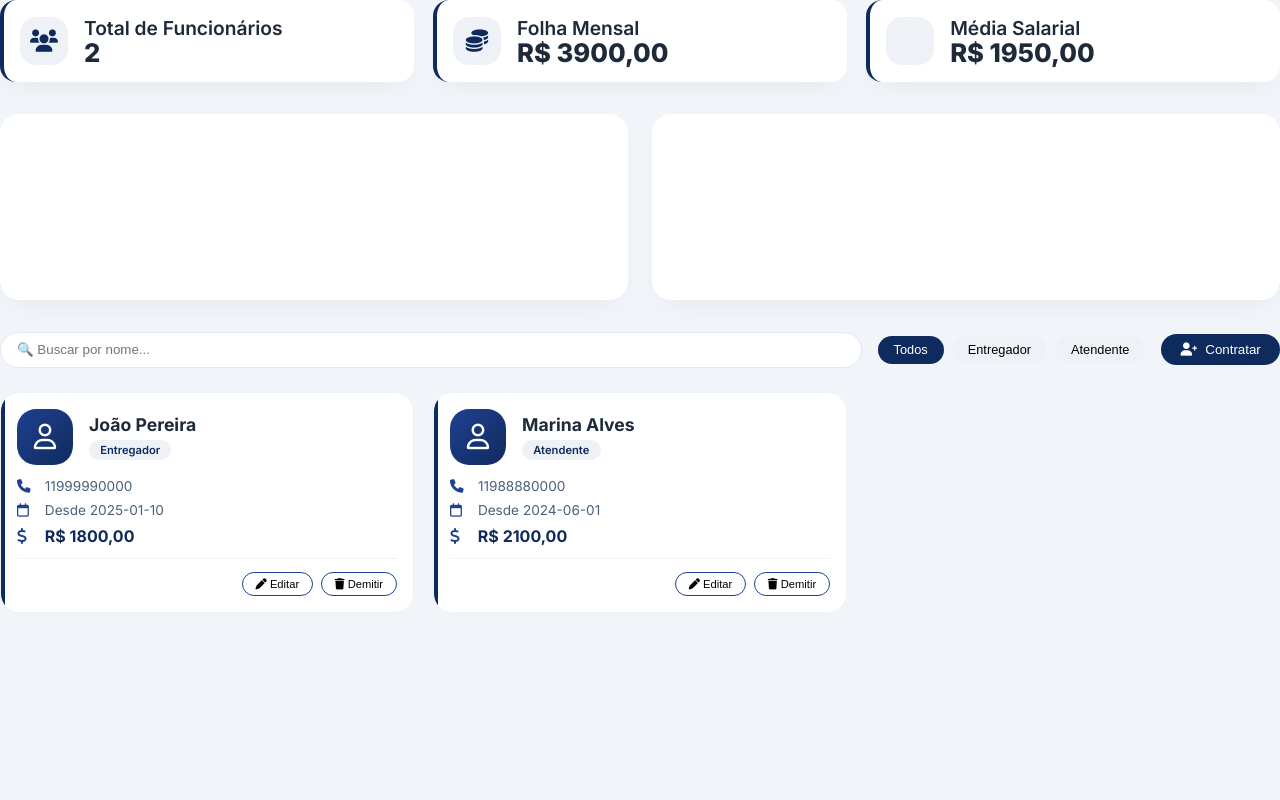
Test: EmployeesSection (painel admin — funcionários) › editar funcionário com falha do backend: mostra o erro, mantém o modal aberto e não altera a lista
Click the button "Editar" below "R$ 1800,00" at (277, 584), box [242,572,313,596]
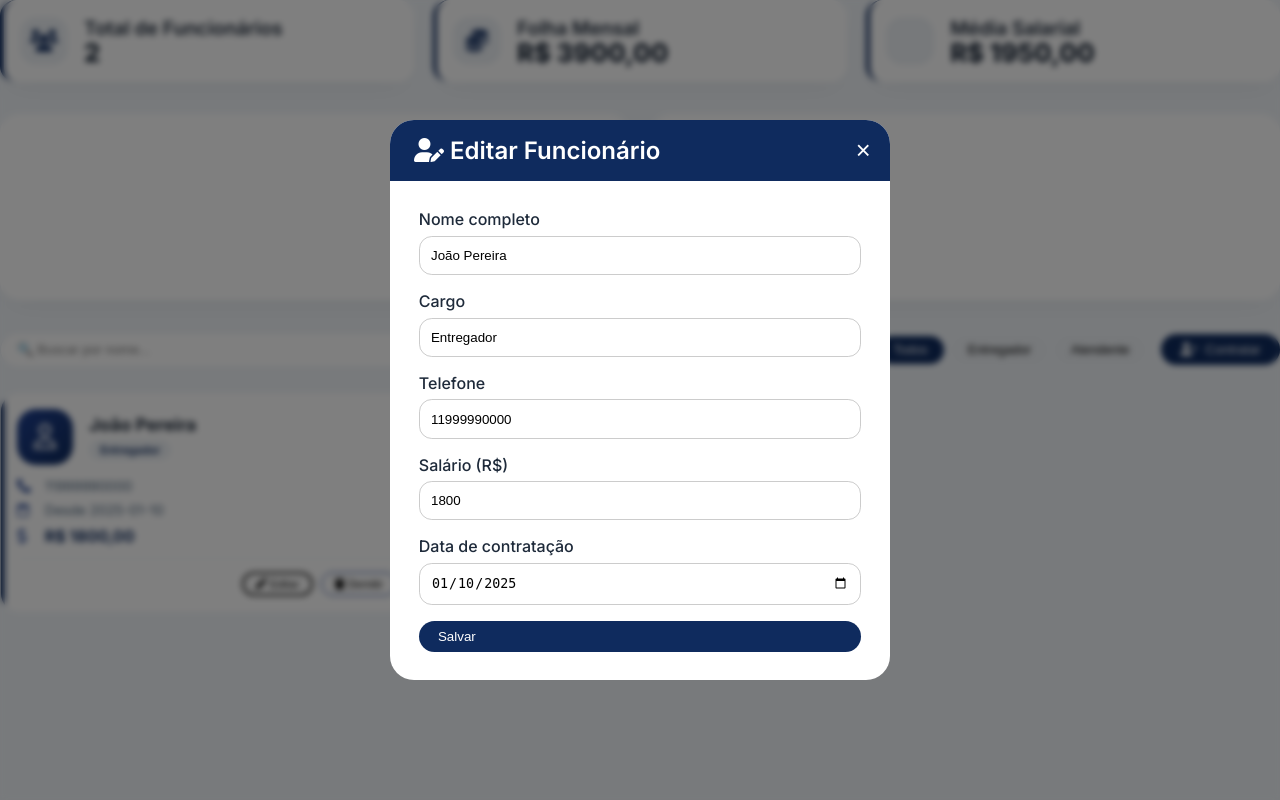
Replace the text in the field labelled "Nome completo" with "João P. Silva" at (640, 256), box [419,236,861,275]
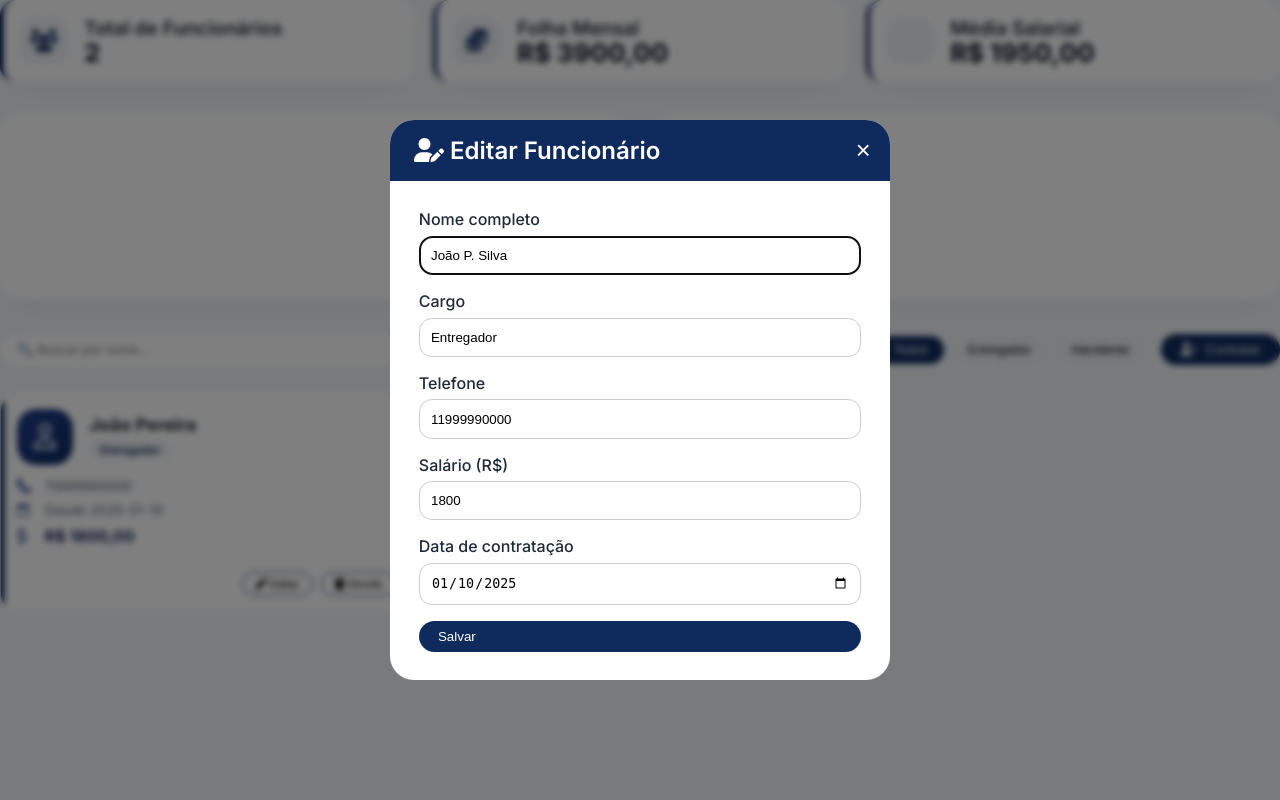
Click the button "Salvar" at (457, 636), box [419,621,861,652]
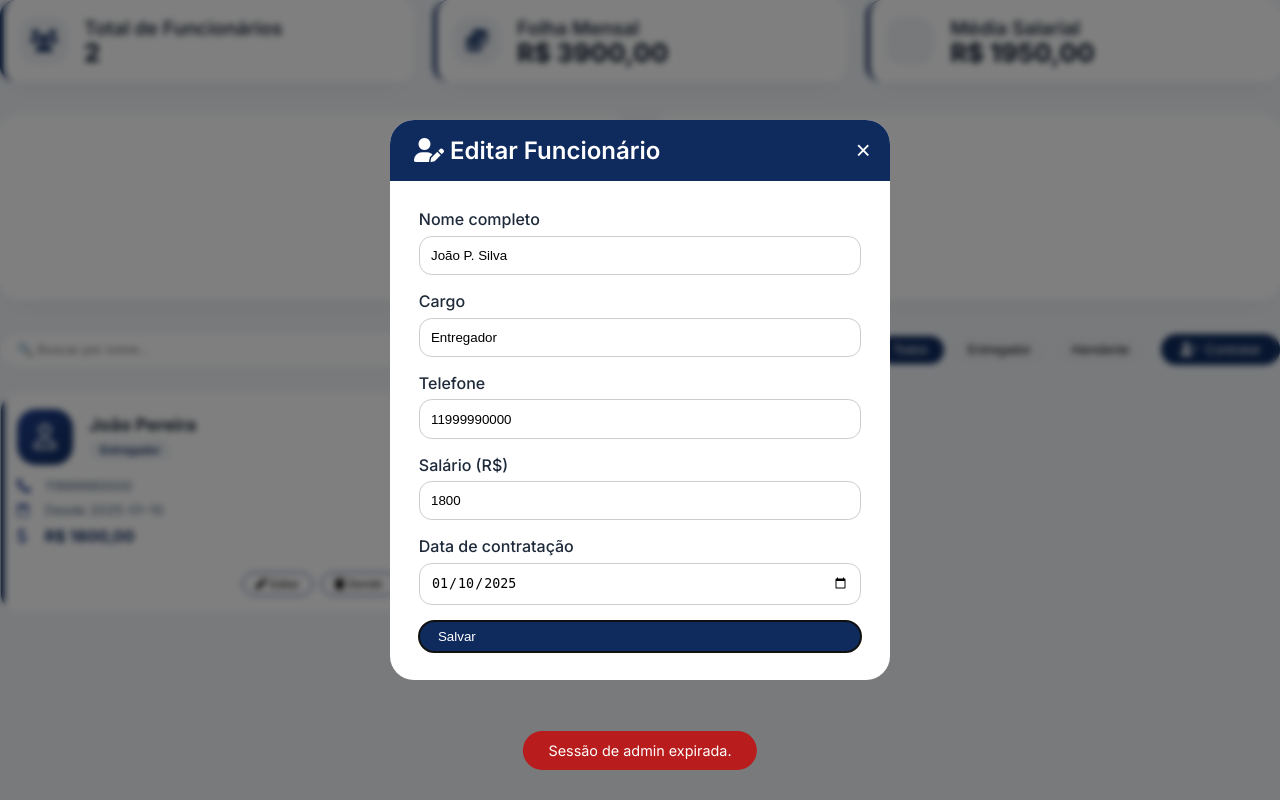
Check: the heading "João Pereira" is shown, box [89,414,196,435]
Check: the text "Sessão de admin expirada." is shown, box [523,731,757,770]
